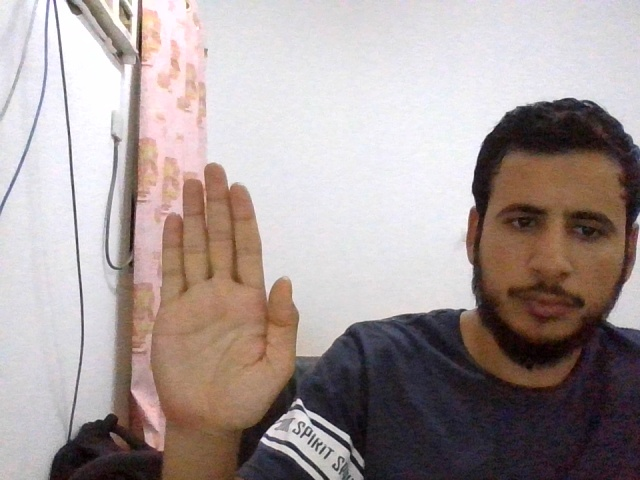Five: (151, 164, 299, 428)
